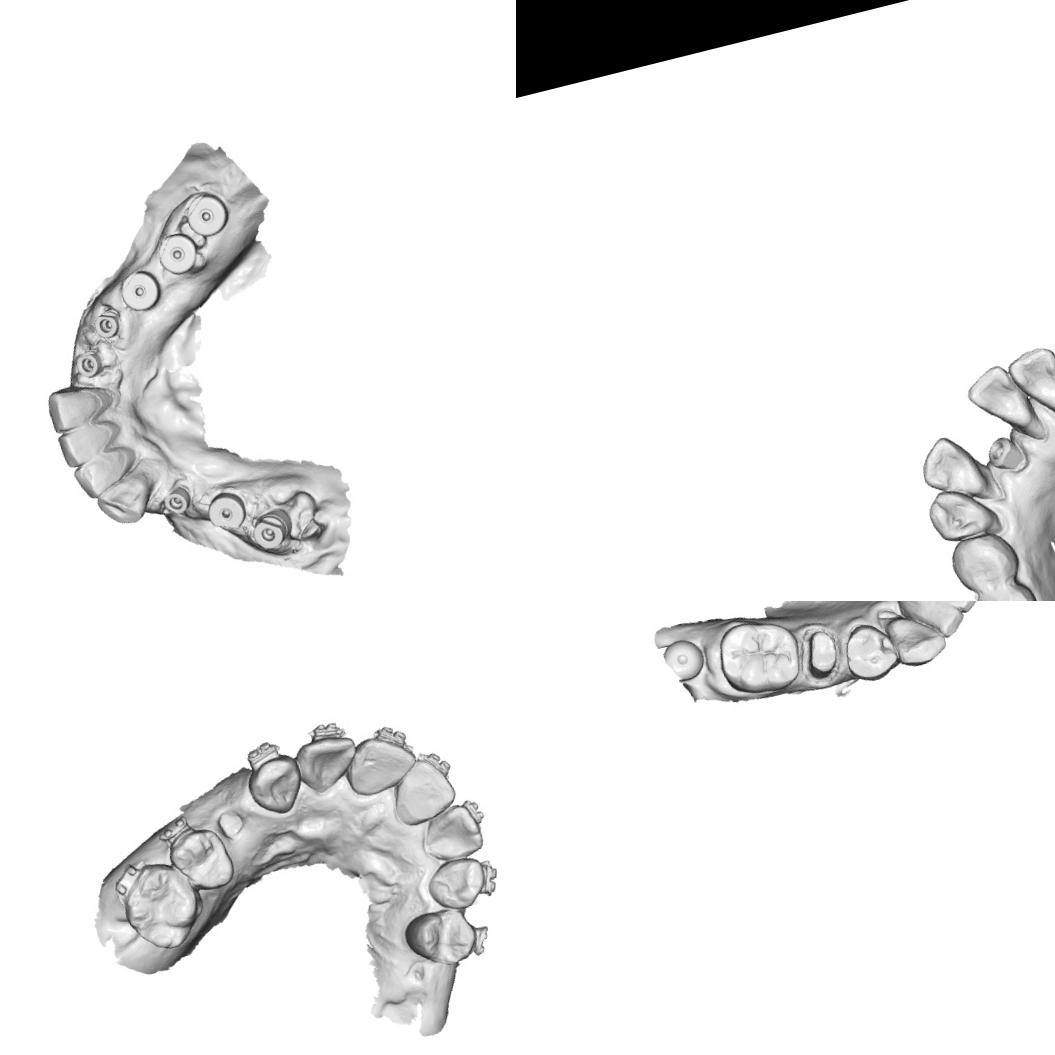canine: (918, 476, 1002, 547), (875, 601, 951, 672), (242, 751, 306, 822), (423, 853, 493, 916)
crown: (790, 619, 849, 689)
implant: (179, 186, 232, 242), (151, 228, 203, 280), (115, 264, 166, 316), (245, 504, 298, 554), (658, 634, 708, 684), (202, 486, 251, 536), (982, 430, 1026, 476), (159, 482, 196, 518), (90, 304, 125, 342), (68, 346, 106, 381)
incisor: (380, 750, 460, 830), (960, 356, 1034, 438), (339, 727, 419, 801), (912, 427, 984, 504), (40, 374, 125, 436), (412, 797, 486, 867), (292, 730, 361, 796), (92, 469, 160, 531), (1001, 341, 1055, 419), (69, 444, 143, 500), (54, 416, 128, 470), (919, 601, 969, 643), (932, 601, 986, 619)
molar: (117, 856, 209, 959), (710, 610, 808, 703)
premolar: (943, 524, 1025, 596), (398, 900, 477, 974), (164, 822, 237, 900), (836, 616, 902, 686), (969, 575, 1044, 601)
